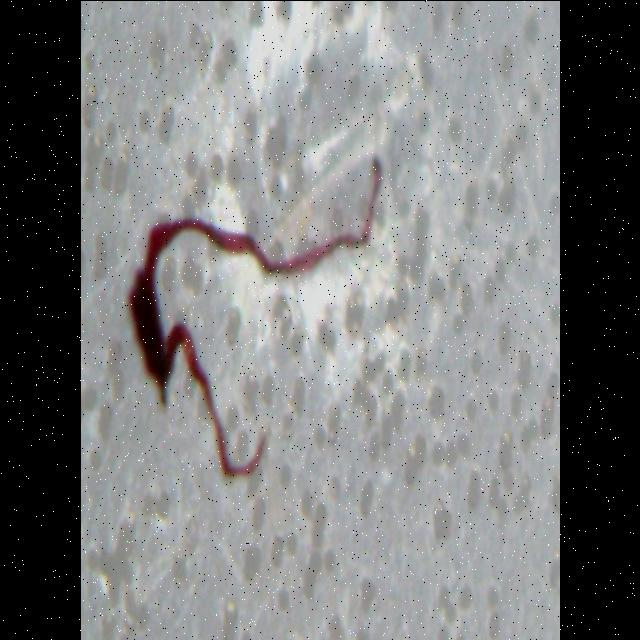Fibre: (126, 156, 384, 480)
